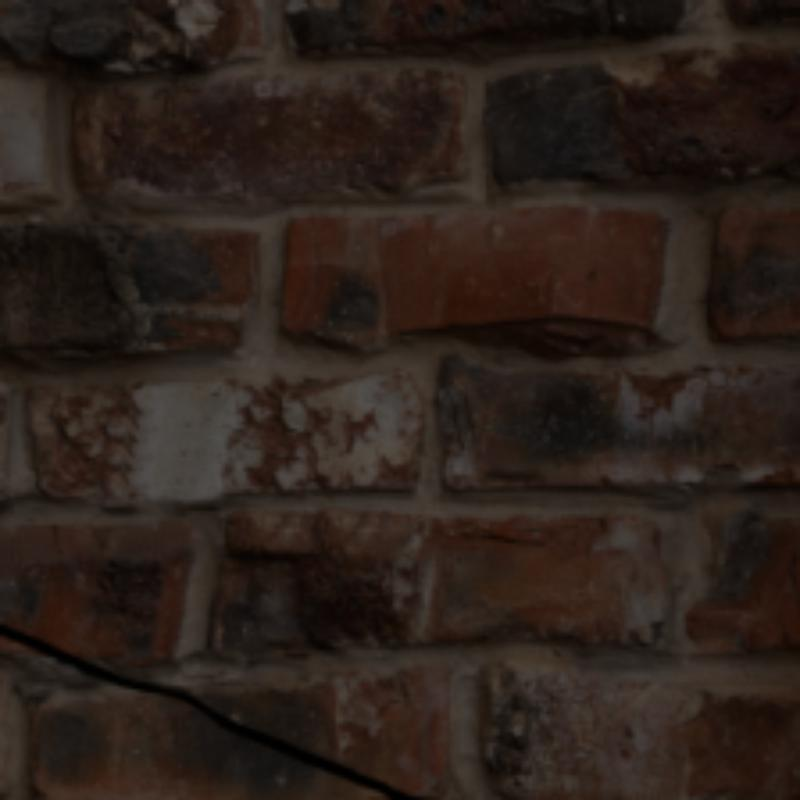pothole: (0, 625, 421, 796)
